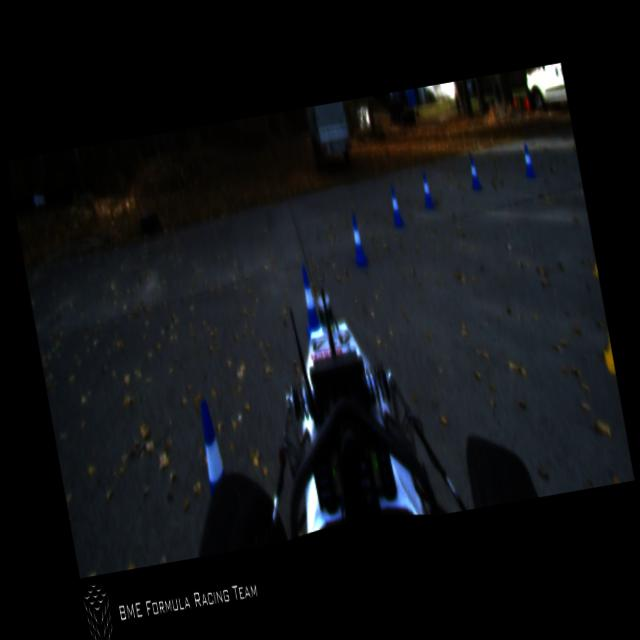blue_cone: (193, 398, 228, 492), (296, 266, 322, 340), (346, 214, 366, 265), (386, 186, 404, 228), (464, 154, 482, 191), (418, 170, 434, 207), (520, 144, 535, 176)
